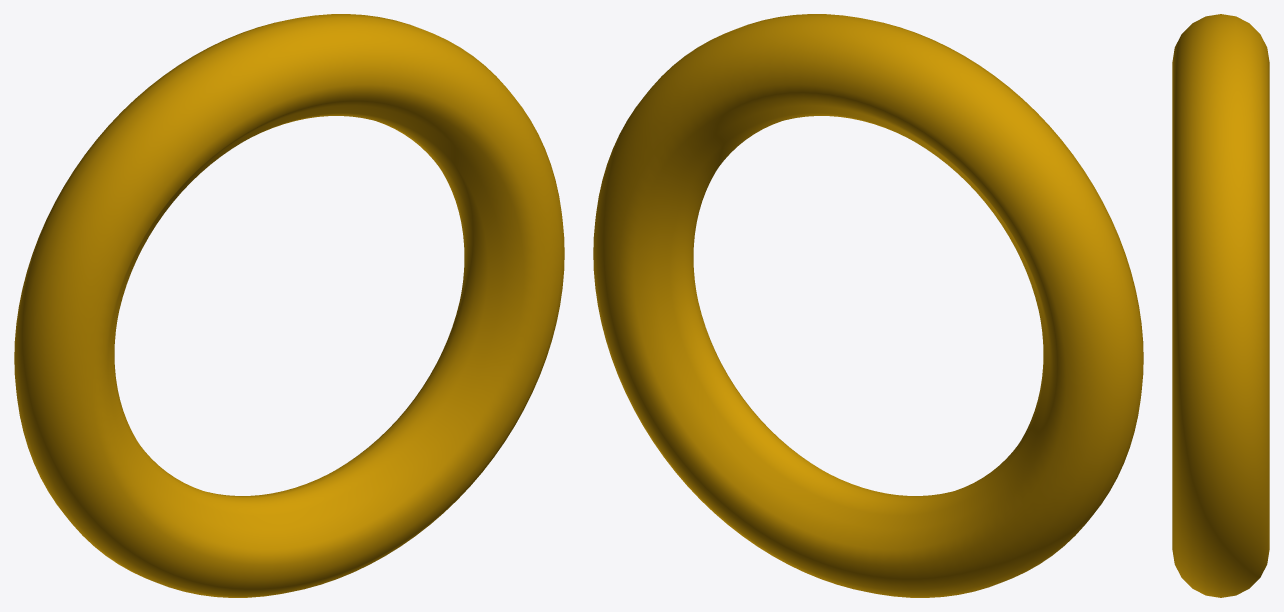
Rendered from RingDisc.fbx.
3 views of the same model, side by side, from view 1: azimuth 30°, elevation 25°; view 2: azimuth 150°, elevation 25°; view 3: azimuth 270°, elevation 25° (orthographic). The views are drawn at different scales.
Visible parts, largest first — view 1: pTorus1; view 2: pTorus1; view 3: pTorus1.
Boxes of the visible parts, box(x1,y1,x2,y2) form: pTorus1: box(14, 14, 564, 597); pTorus1: box(593, 14, 1143, 597); pTorus1: box(1172, 14, 1269, 597).
Bounding box in the file's own units: 6.21 × 6.21 × 1.03.
